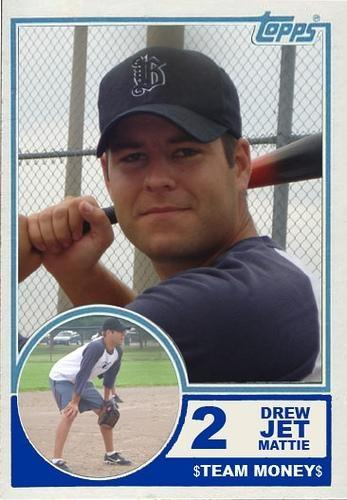car: (52, 329, 83, 346), (36, 334, 50, 347), (126, 326, 138, 334)
